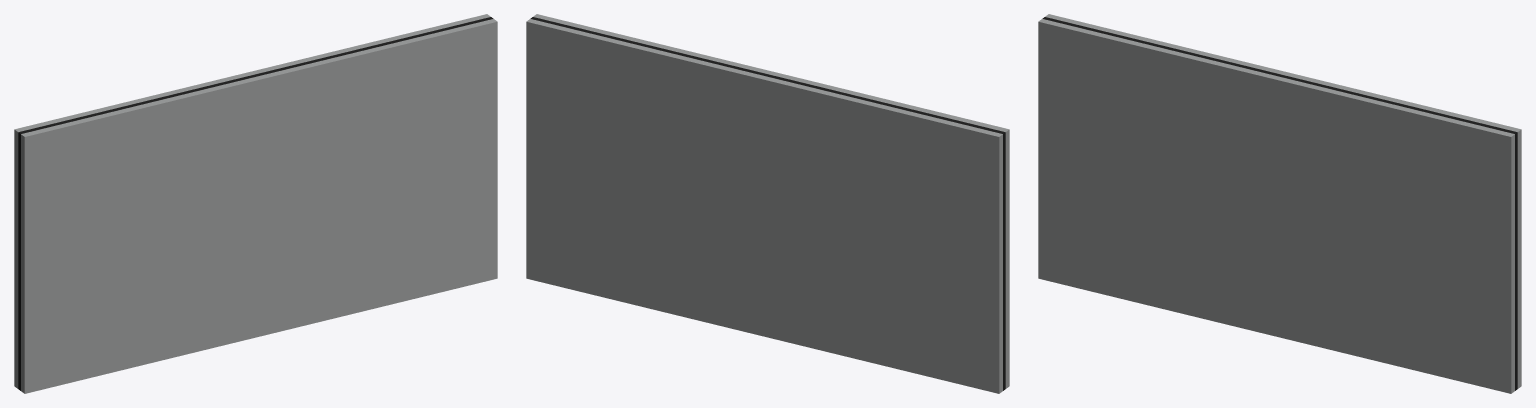
Rendered from HVAC_Transition_50x100.fbx.
3 views of the same model, side by side, from view 1: azimuth 30°, elevation 25°; view 2: azimuth 150°, elevation 25°; view 3: azimuth 330°, elevation 25° (orthographic).
Parts seen in each view (by area): view 1: HVAC_Transition_50x100; view 2: HVAC_Transition_50x100; view 3: HVAC_Transition_50x100.
Boxes of the visible parts, bbox=[...] form: HVAC_Transition_50x100: bbox=[14, 14, 497, 393]; HVAC_Transition_50x100: bbox=[526, 14, 1009, 393]; HVAC_Transition_50x100: bbox=[1038, 14, 1521, 393].
Bounding box in the file's own units: 0.0104 × 0.0054 × 0.0004.
